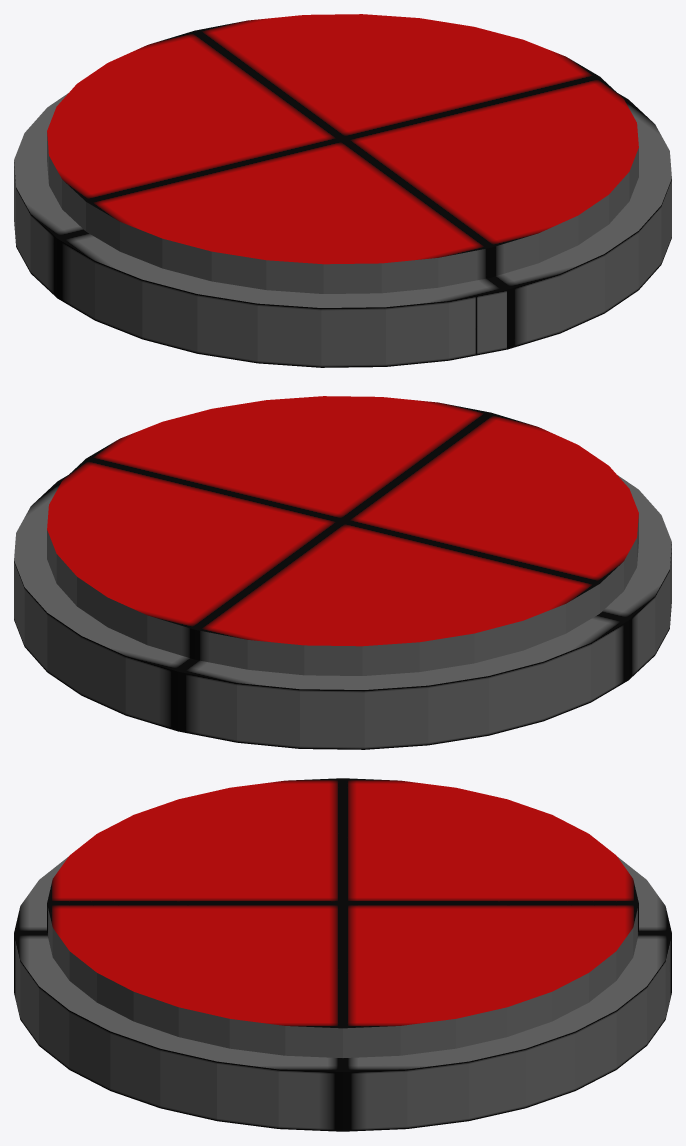
File: button.obj
3 views of the same model, one above another, from view 1: azimuth 30°, elevation 25°; view 2: azimuth 150°, elevation 25°; view 3: azimuth 270°, elevation 25° (orthographic).
Parts seen in each view (by area): view 1: Cylinder; view 2: Cylinder; view 3: Cylinder.
Part boxes in pixels (<box>): Cylinder: <box>14,14,671,367</box>; Cylinder: <box>14,396,671,749</box>; Cylinder: <box>14,778,671,1131</box>.
Bounding box in the file's own units: 2 × 0.3 × 2.
